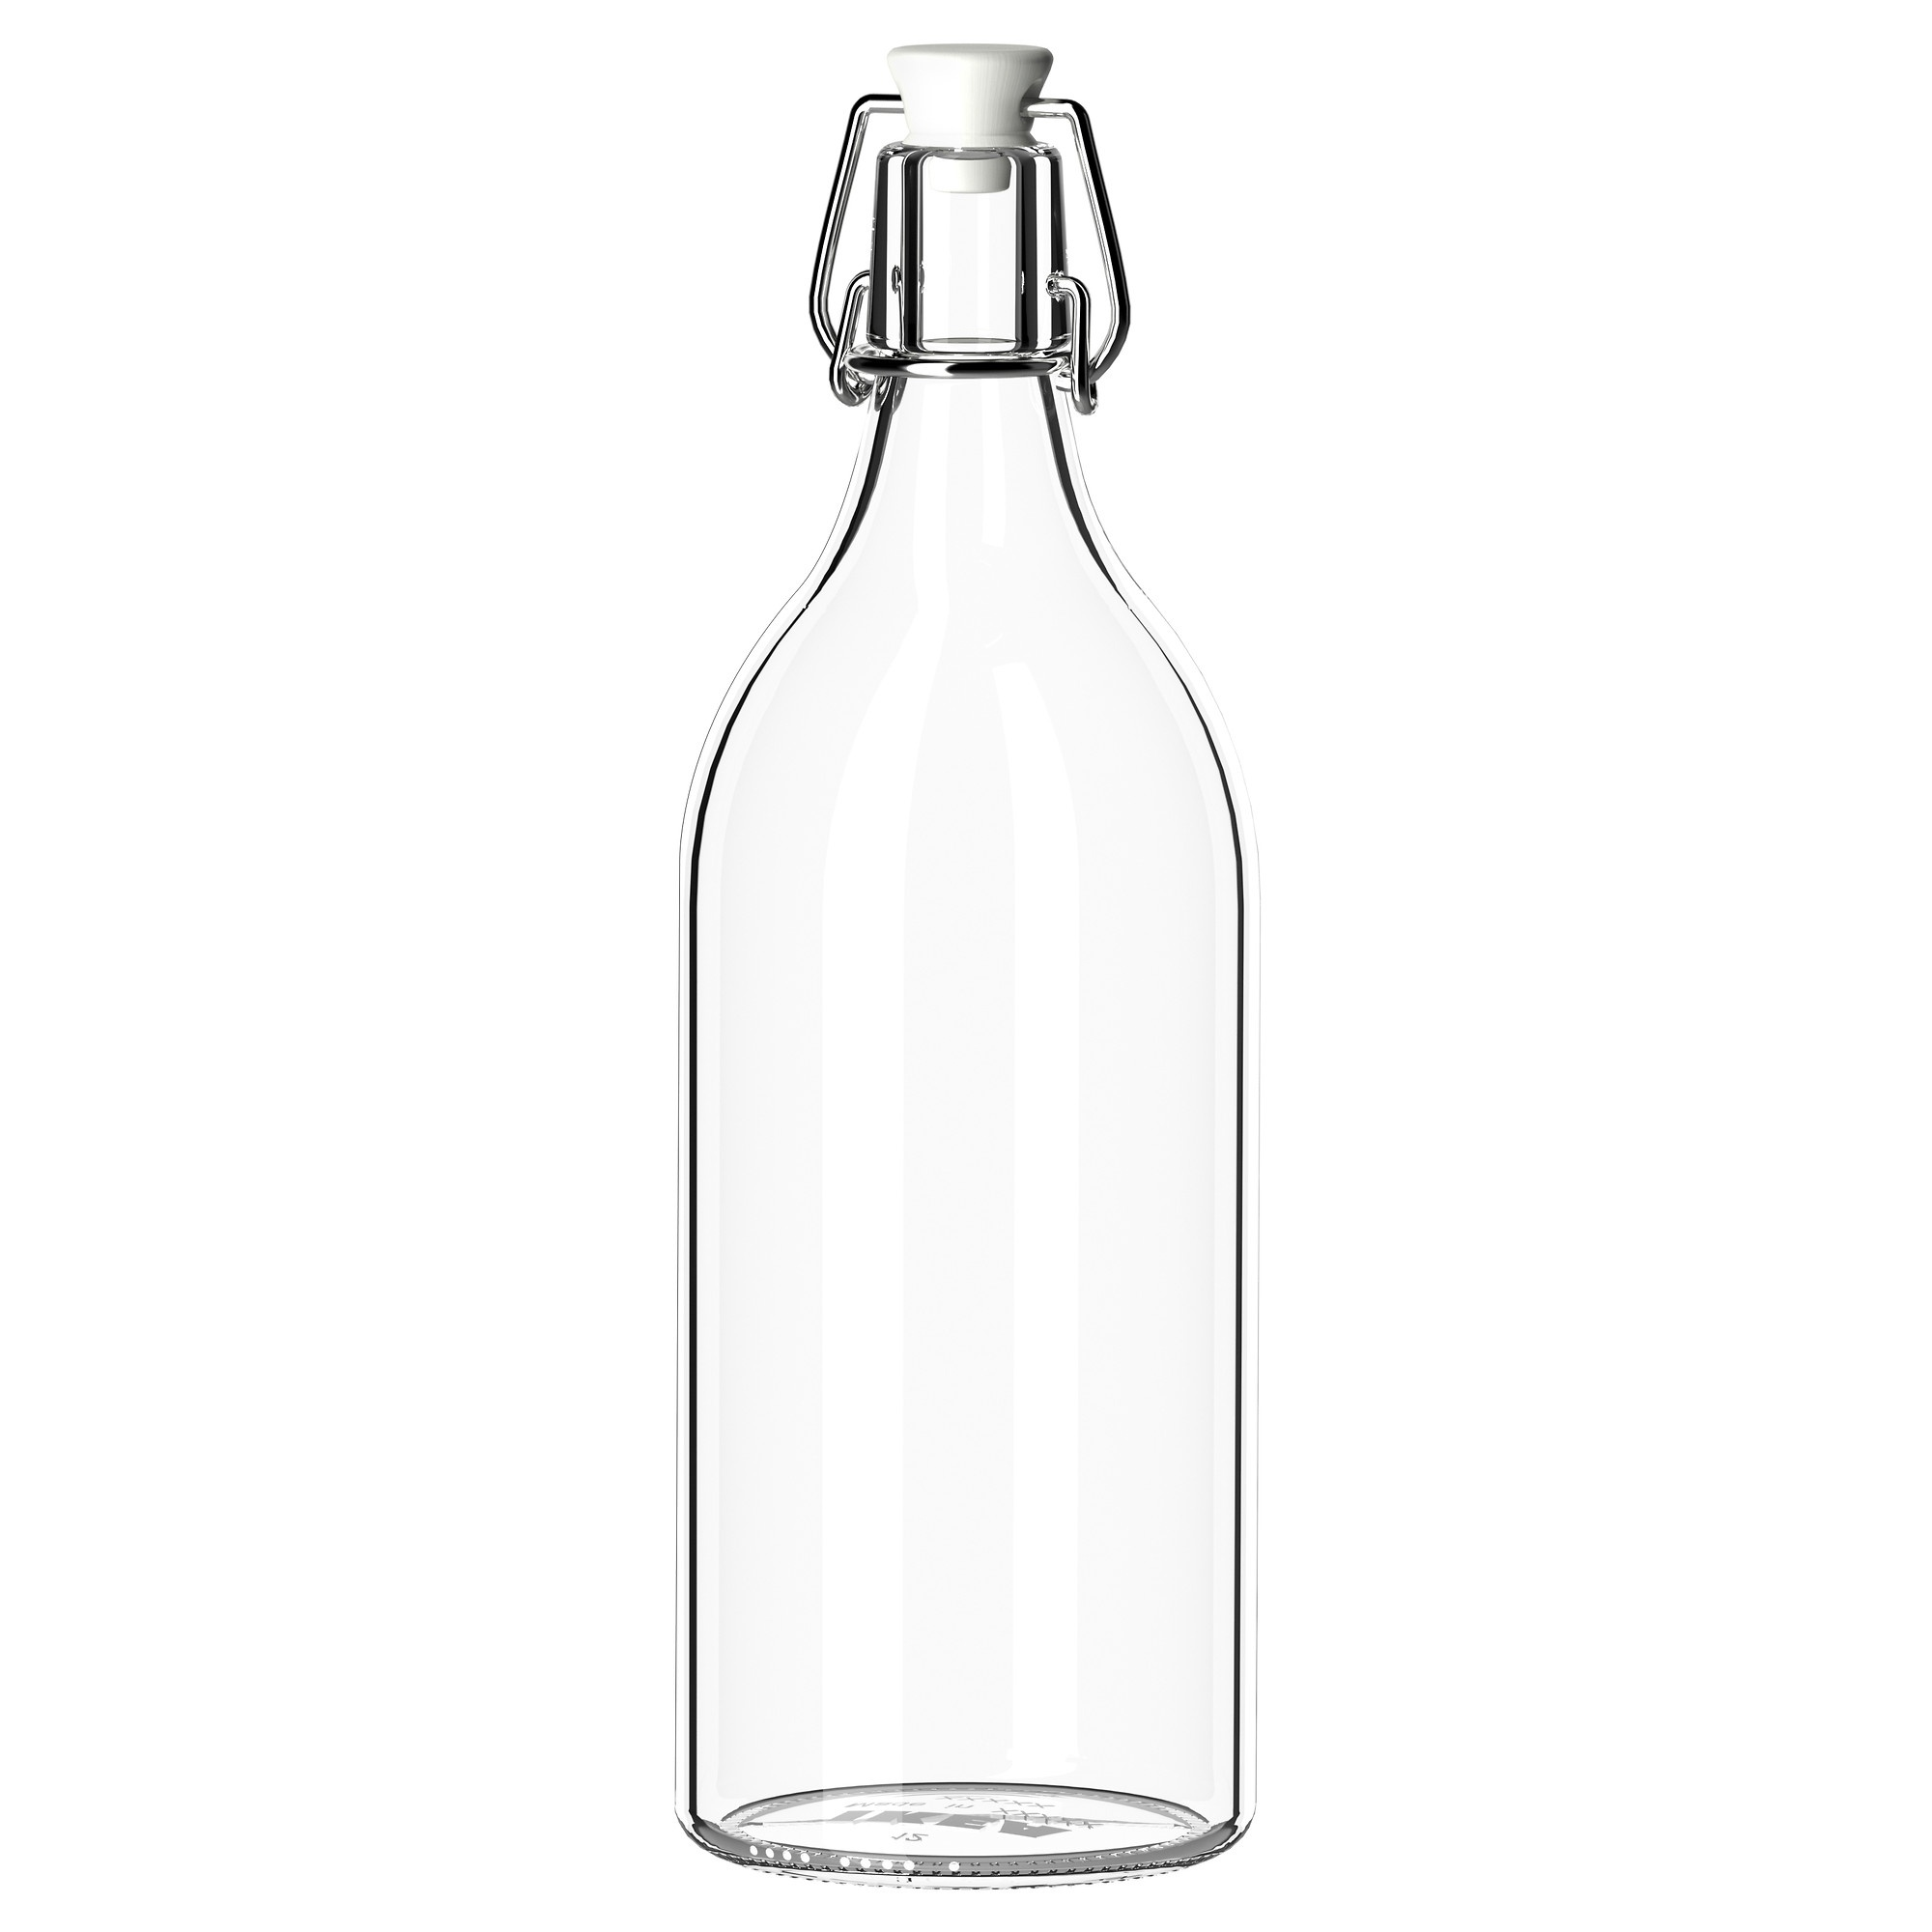emptybottle: (685, 44, 1258, 1888)
